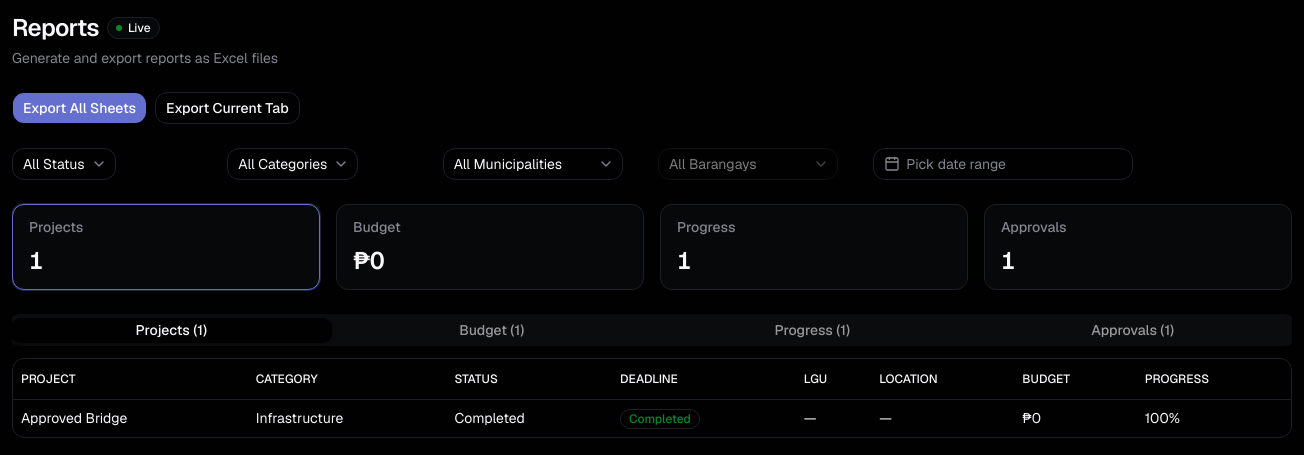
it: ReportsModule (V12) › should request user expands and resolve names when the users list is forbidden
What coordinates should you click on to do the following:
click the tab "Approvals (1)"
I would click on:
 (1132, 330)
Its box is [972,318,1292,342].
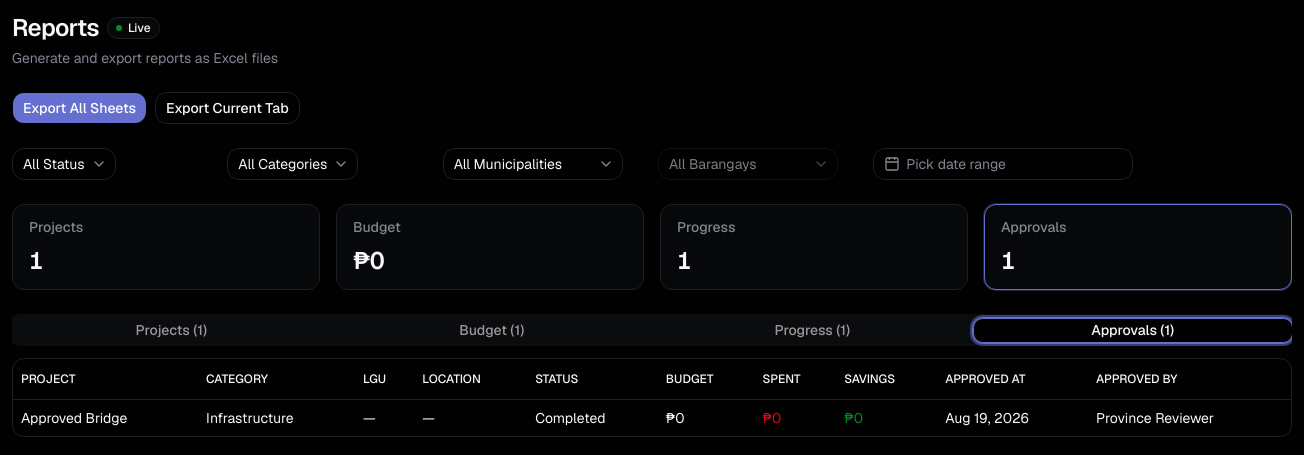
Expected: the text "Province Reviewer" is shown, [1088,399,1291,436]
What coordinates should you click on to do the following:
click the tab "Progress (1)"
I would click on:
 (812, 330)
Its box is [652,318,972,342].
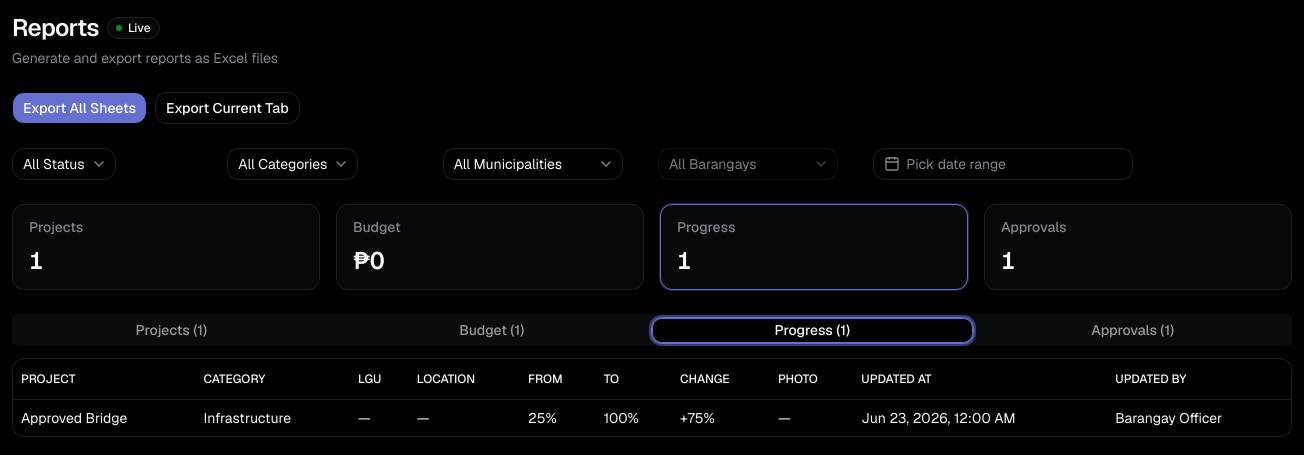
Expected: the text "Barangay Officer" is shown, [1107,399,1291,436]
